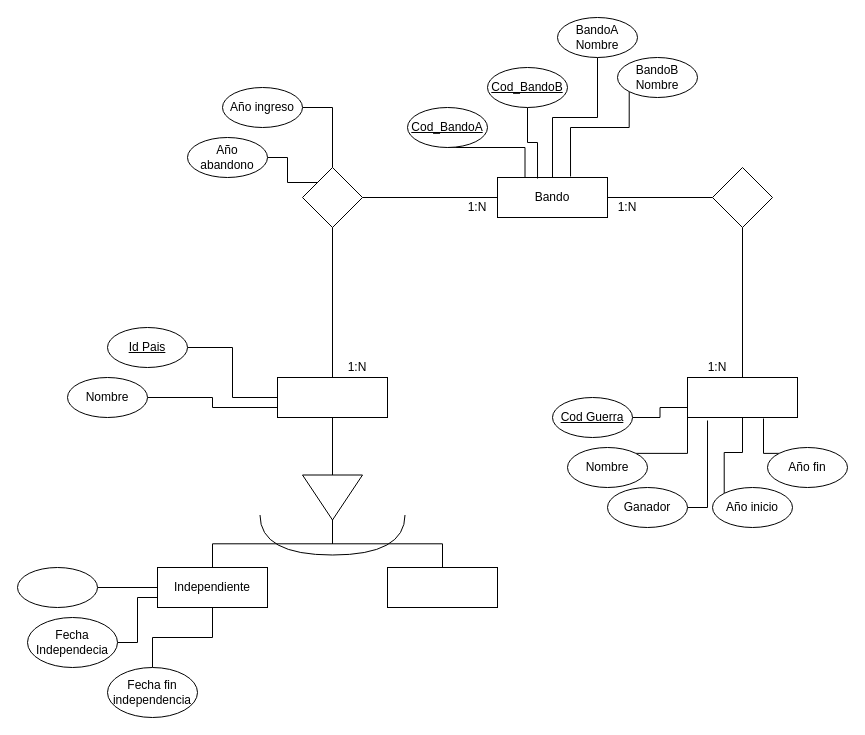
This 865x735 diagram has some shape labels left out. Each missing label, with the box of its shape:
Beligerar: (712, 166, 772, 228)
Dependiente: (386, 566, 498, 608)
Elegir: (302, 166, 362, 228)
Guerra: (686, 376, 798, 418)
Nuevo Nombre: (16, 566, 98, 608)
País: (276, 376, 388, 418)
